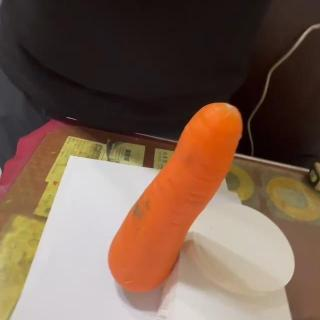carrot: (107, 103, 243, 295)
